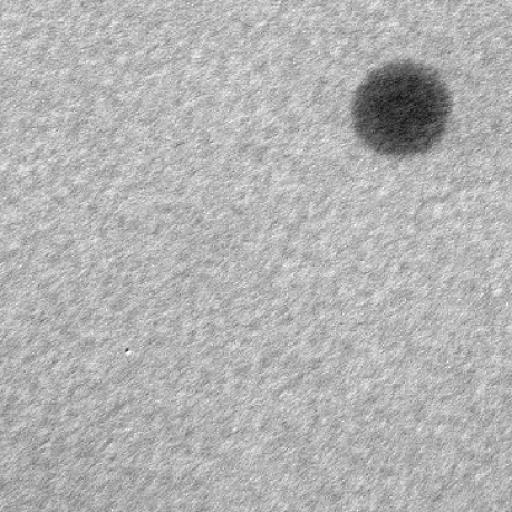Nanoparticles: (347, 57, 454, 165)
